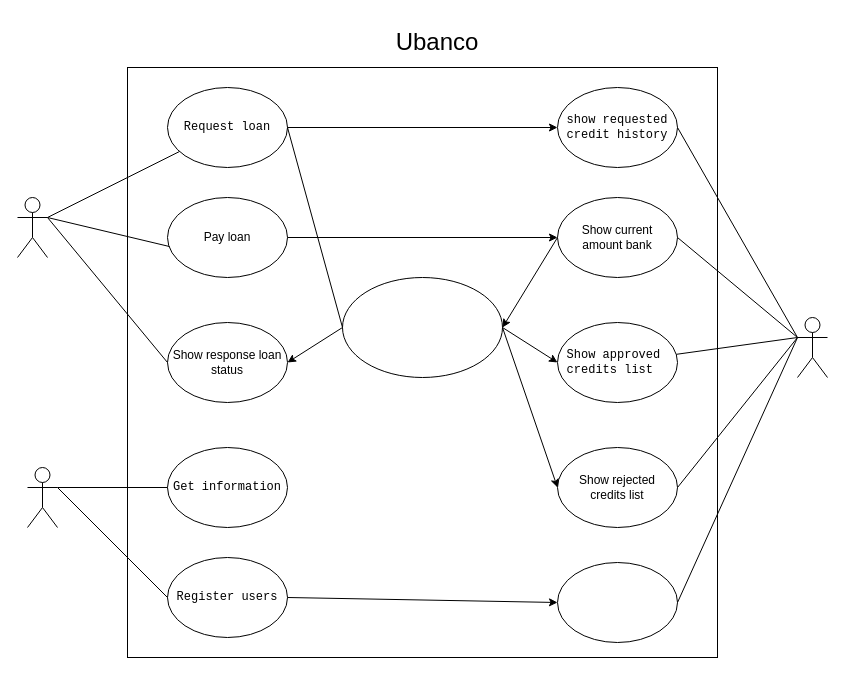
The diagram is 853 pixels wide and 675 high, and some of its shapes have lost their labels. The centre of each missing label's shape, as x and y in pixels:
Client: (x=32, y=227)
Manager: (x=812, y=347)
Show user list: (x=617, y=602)
User: (x=42, y=497)
Validate credit approval or rejection: (x=422, y=327)
